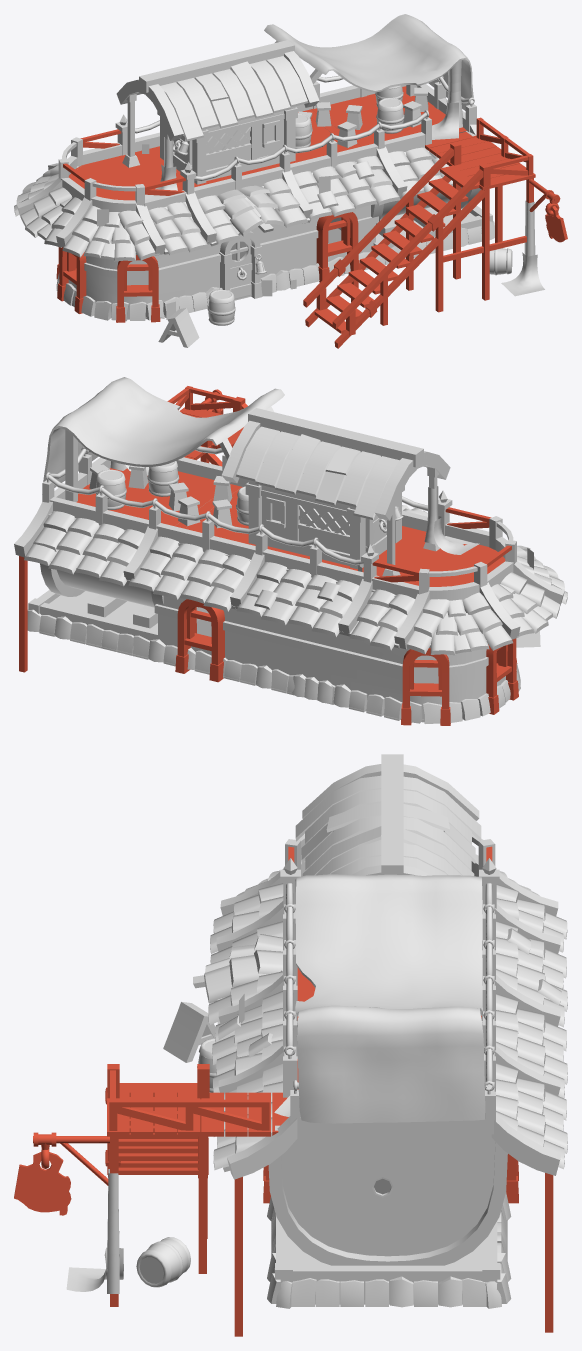
The model's file is TotalSceneSketch_01.fbx.
3 views of the same model, one above another, from view 1: azimuth 30°, elevation 25°; view 2: azimuth 150°, elevation 25°; view 3: azimuth 270°, elevation 25° (orthographic). The views are drawn at different scales.
Visible parts, largest first — view 1: Edificio, Door, pPlane1, LetreroAnimado; view 2: Edificio, pPlane1; view 3: Edificio, LetreroAnimado.
Part boxes in pixels (left/top/right/bottom): Edificio: left=14, top=14, right=560, bottom=348; Door: left=230, top=238, right=252, bottom=300; pPlane1: left=94, top=228, right=341, bottom=317; LetreroAnimado: left=545, top=206, right=567, bottom=242; Edificio: left=14, top=377, right=567, bottom=725; pPlane1: left=37, top=619, right=438, bottom=720; Edificio: left=33, top=754, right=567, bottom=1336; LetreroAnimado: left=14, top=1152, right=71, bottom=1215.
Size of the model in its own units: 711 by 364 by 519.
